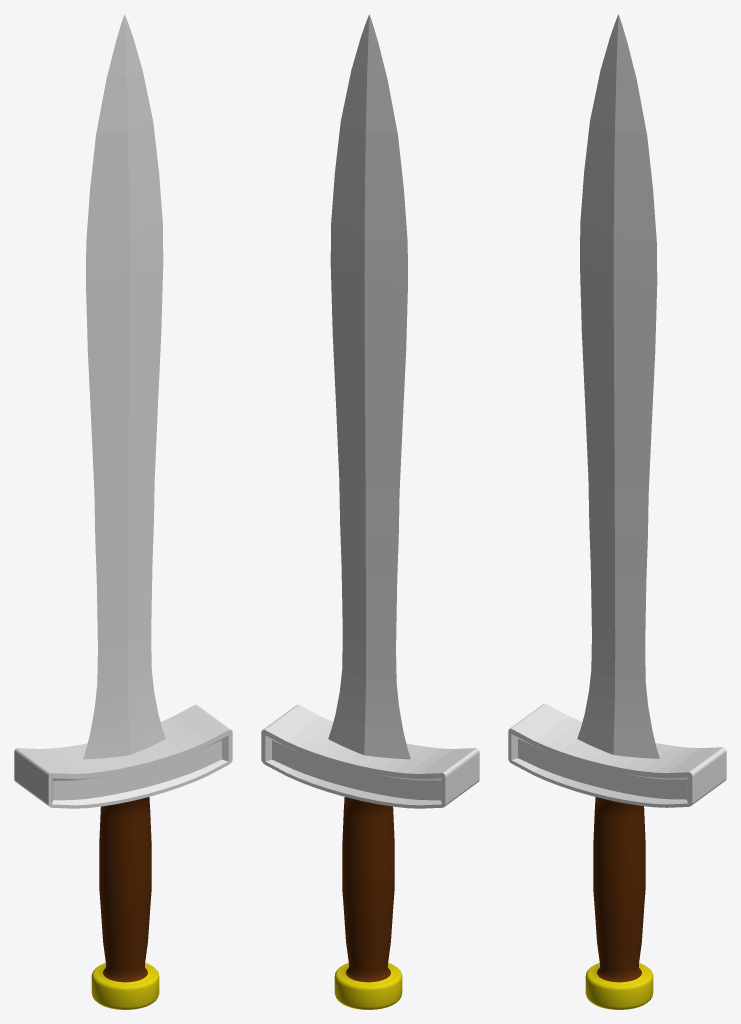
The model's file is sword_riptide.fbx.
3 views of the same model, side by side, from view 1: azimuth 30°, elevation 25°; view 2: azimuth 150°, elevation 25°; view 3: azimuth 330°, elevation 25° (orthographic).
Visible parts, largest first — view 1: Cube.001, Cube, Cylinder; view 2: Cube.001, Cube, Cylinder; view 3: Cube.001, Cube, Cylinder.
Boxes of the visible parts, x1,y1,x2,y2 form: Cube.001: [83, 14, 165, 759]; Cube: [14, 704, 232, 808]; Cylinder: [91, 797, 159, 1009]; Cube.001: [328, 14, 410, 759]; Cube: [261, 704, 479, 808]; Cylinder: [334, 797, 402, 1009]; Cube.001: [577, 14, 659, 758]; Cube: [508, 703, 726, 807]; Cylinder: [585, 797, 653, 1009].
Size of the model in its own units: 97.43 by 497 by 31.38.
